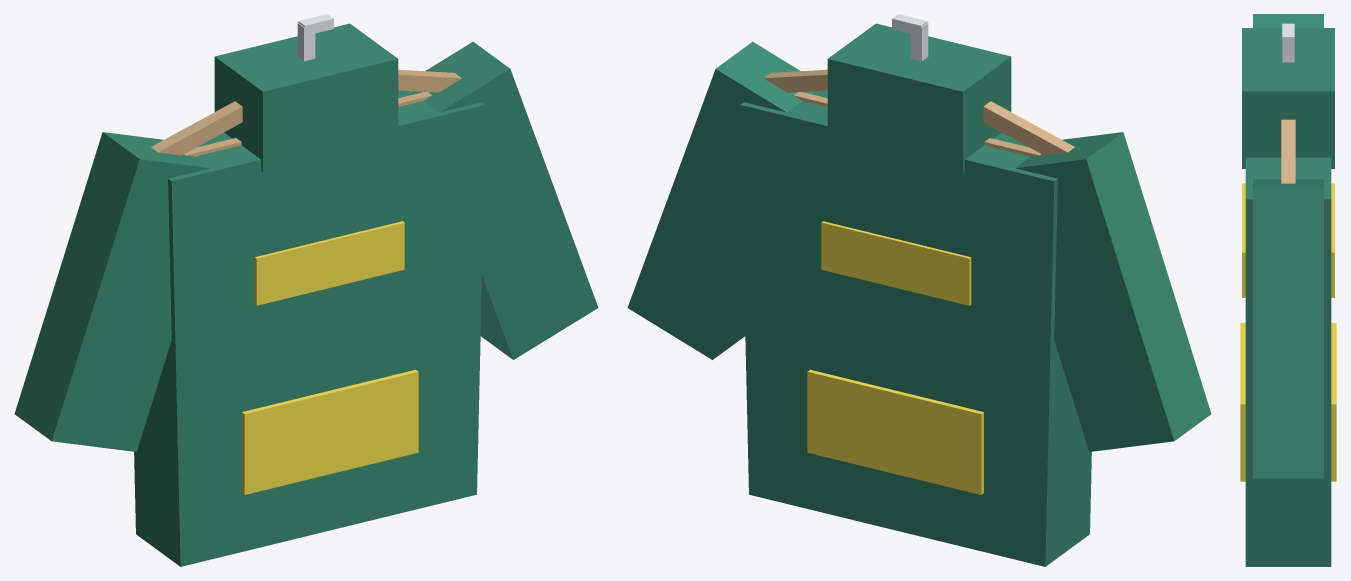
The model's file is hoodie.glb.
3 views of the same model, side by side, from view 1: azimuth 30°, elevation 25°; view 2: azimuth 150°, elevation 25°; view 3: azimuth 270°, elevation 25° (orthographic). The views are drawn at different scales.
Visible parts, largest first — view 1: GarmentBody, GarmentAccent, WoodenHanger, Hook; view 2: GarmentBody, GarmentAccent, WoodenHanger, Hook; view 3: GarmentBody, GarmentAccent, WoodenHanger, Hook.
Boxes of the visible parts, x1,y1,x2,y2 form: GarmentBody: [14, 23, 598, 566]; GarmentAccent: [242, 221, 418, 494]; WoodenHanger: [151, 69, 461, 156]; Hook: [297, 14, 333, 61]; GarmentBody: [627, 23, 1211, 566]; GarmentAccent: [807, 221, 983, 494]; WoodenHanger: [764, 69, 1074, 156]; Hook: [892, 14, 928, 61]; GarmentBody: [1242, 14, 1334, 566]; GarmentAccent: [1240, 183, 1336, 481]; WoodenHanger: [1281, 119, 1295, 183]; Hook: [1282, 23, 1294, 62].
Size of the model in its own units: 1.7 by 1.46 by 0.27.
